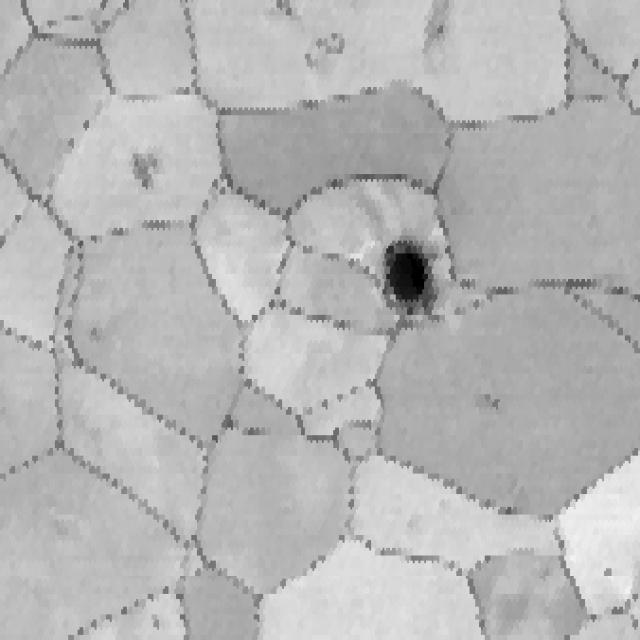good_void: (372, 232, 438, 315), (297, 24, 352, 79), (418, 0, 461, 58), (131, 149, 166, 191), (477, 383, 513, 418), (264, 0, 306, 25), (238, 418, 272, 441), (88, 321, 104, 349), (151, 609, 164, 634), (602, 563, 616, 582)
